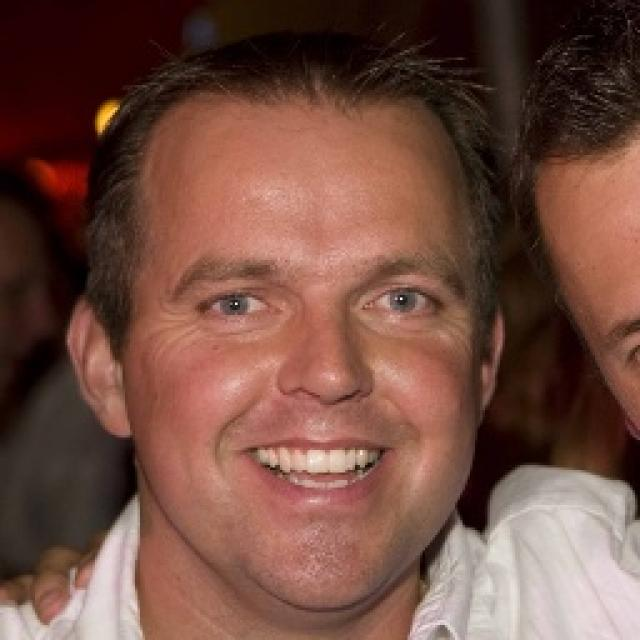earlobe: (65, 291, 134, 439)
